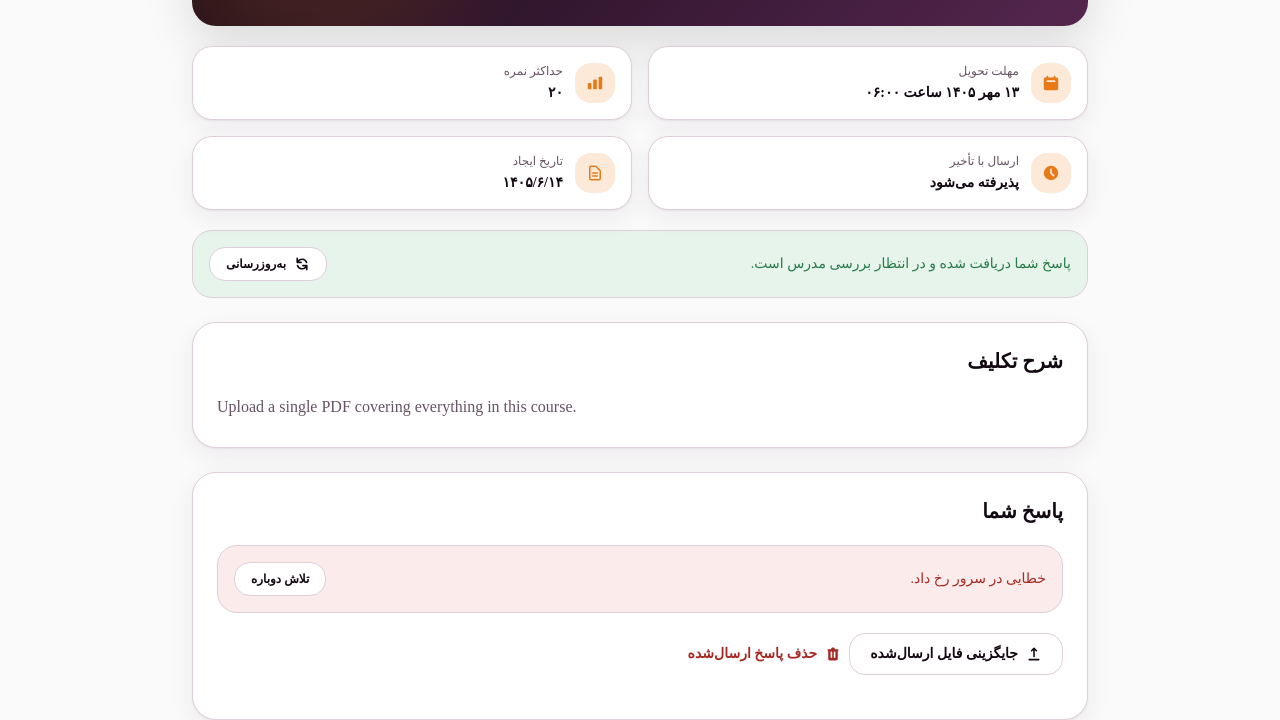
Test case: HomeworkDetailPage › offers a retry when the submission details fail to load
(page scrolled)
Expected: the text "خطایی در سرور رخ داد." is shown, [910,568,1046,588]
Expected: the button "جایگزینی فایل ارسال‌شده" is shown, [849,632,1063,674]
Click the button "تلاش دوباره": click(280, 578) [234,562,326,596]
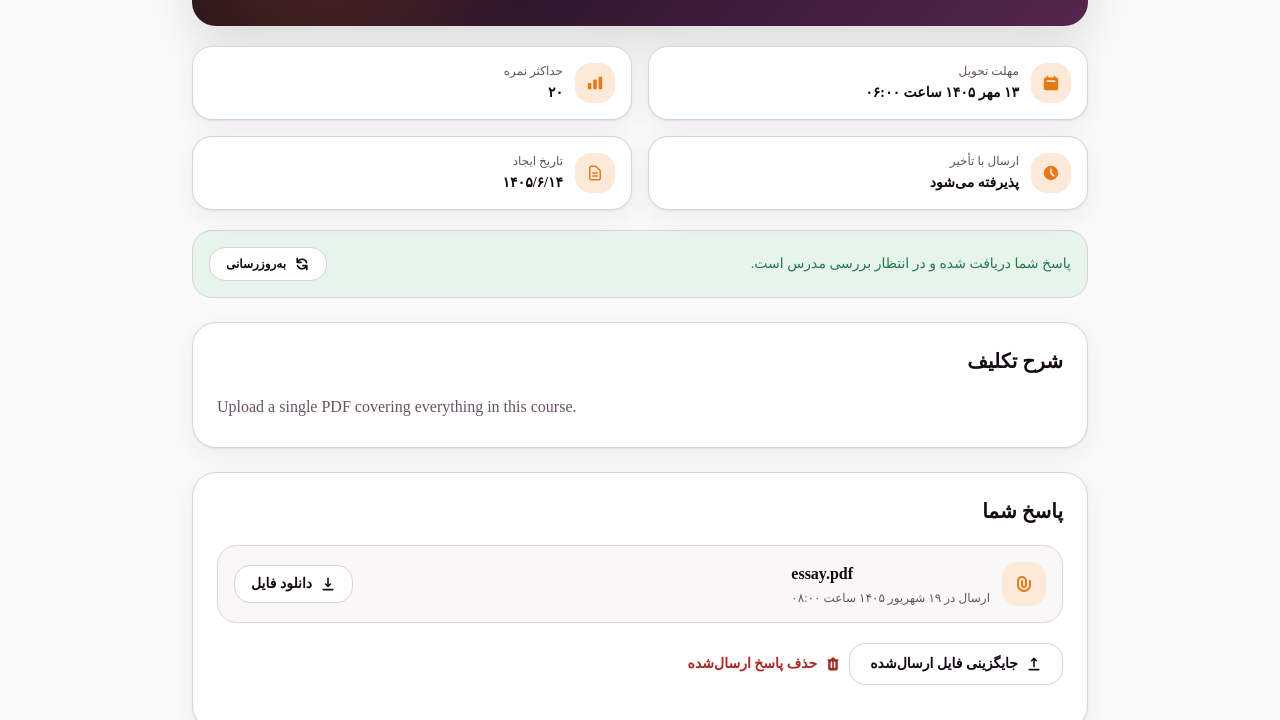
Expected: the text "essay.pdf" is shown, [791,564,853,582]
